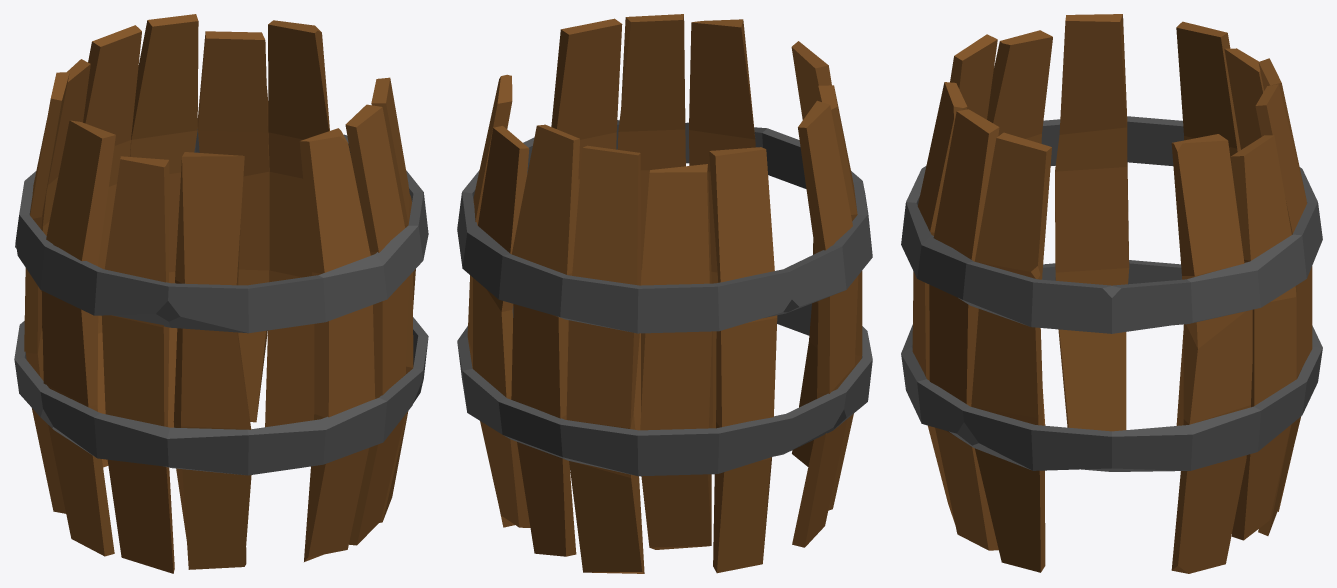
The model's file is Barrel.002.fbx.
3 renders of one model, left to right at view 1: azimuth 30°, elevation 25°; view 2: azimuth 150°, elevation 25°; view 3: azimuth 270°, elevation 25°, orthographic.
Visible parts, largest first — view 1: Barrel.002; view 2: Barrel.002; view 3: Barrel.002.
Part boxes in pixels (x1,y1,x2,y2): Barrel.002: (14,14,428,573); Barrel.002: (457,14,872,573); Barrel.002: (901,14,1322,573).
Size of the model in its own units: 0.8841 by 1 by 0.8841.
